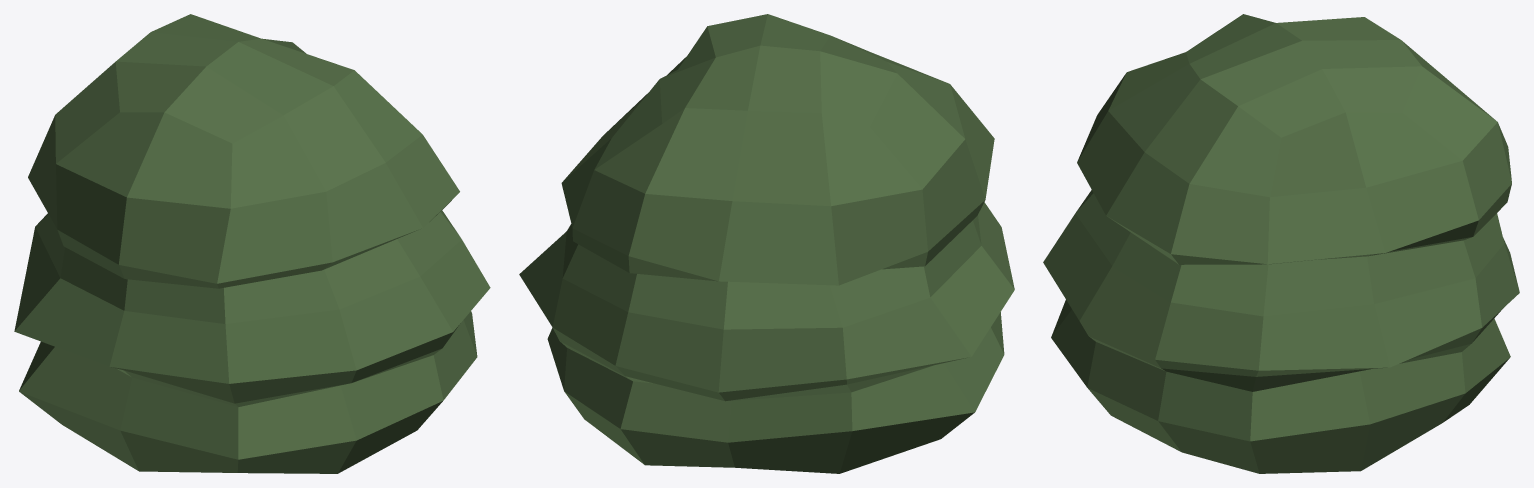
File: bush_2.glb
3 views of the same model, side by side, from view 1: azimuth 30°, elevation 25°; view 2: azimuth 150°, elevation 25°; view 3: azimuth 270°, elevation 25° (orthographic). The views are drawn at different scales.
Parts seen in each view (by area): view 1: bush_2; view 2: bush_2; view 3: bush_2.
Boxes of the visible parts, <box> form: bush_2: <box>14,14,490,473</box>; bush_2: <box>519,14,1014,473</box>; bush_2: <box>1043,14,1519,473</box>.
Bounding box in the file's own units: 1.35 × 1.11 × 1.33.
1 material, 1 textured.
